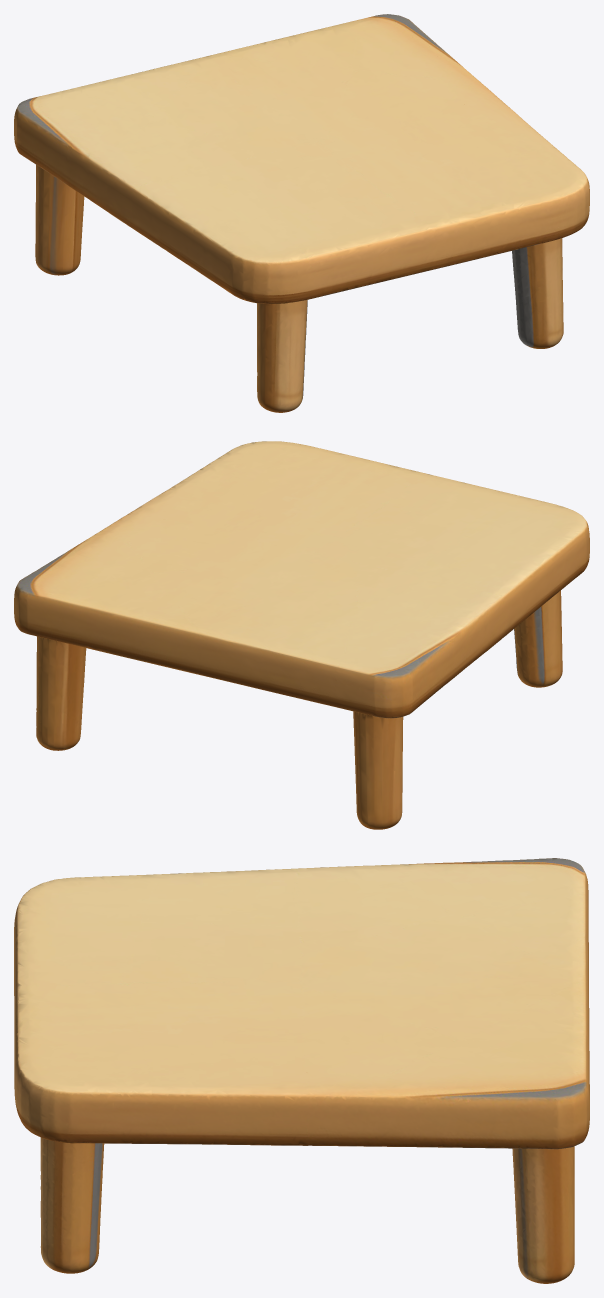
The model's file is table.glb.
The picture shows the model from 3 angles, top to bottom: view 1: azimuth 30°, elevation 25°; view 2: azimuth 150°, elevation 25°; view 3: azimuth 270°, elevation 25°; orthographic projection. The views are drawn at different scales.
Visible parts, largest first — view 1: tripo_node_277546c9-63cd-4696-94aa-5975522c14ef; view 2: tripo_node_277546c9-63cd-4696-94aa-5975522c14ef; view 3: tripo_node_277546c9-63cd-4696-94aa-5975522c14ef.
Boxes of the visible parts, x1,y1,x2,y2 form: tripo_node_277546c9-63cd-4696-94aa-5975522c14ef: (14,14,589,412); tripo_node_277546c9-63cd-4696-94aa-5975522c14ef: (14,441,589,829); tripo_node_277546c9-63cd-4696-94aa-5975522c14ef: (14,858,589,1283).
Size of the model in its own units: 0.9892 by 0.4106 by 1.
1 material, 1 textured.
